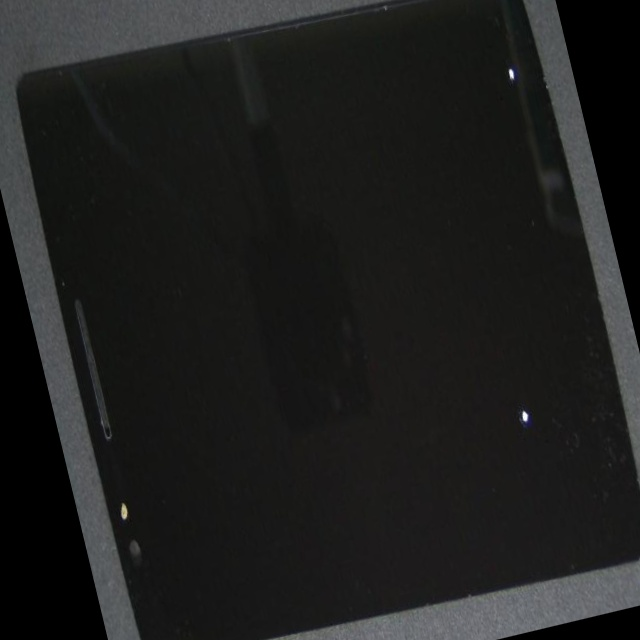stain: (224, 106, 640, 640), (238, 0, 609, 299), (24, 221, 175, 640)
